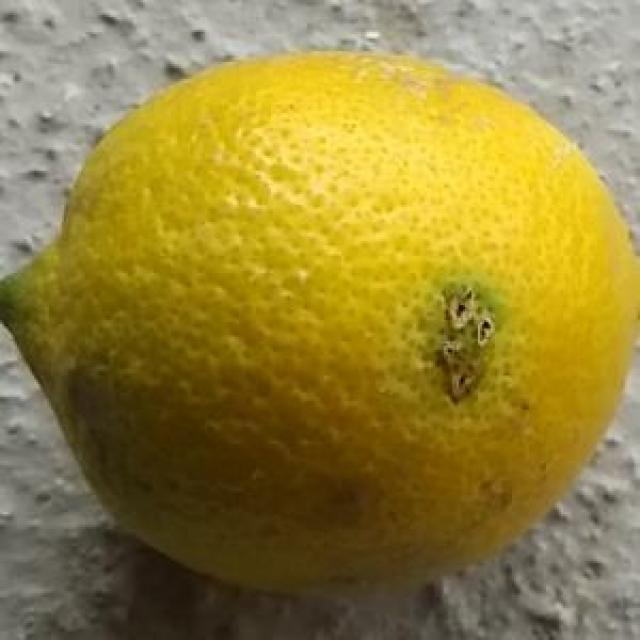lemon: (0, 46, 640, 604)
